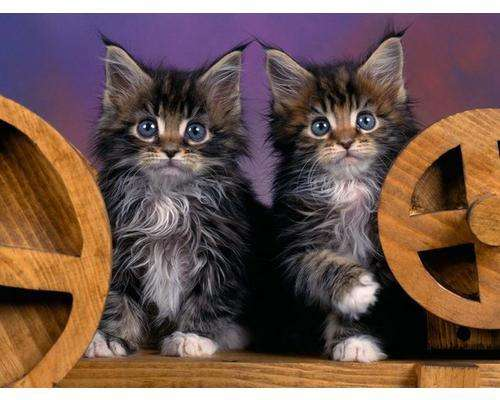cat: (90, 27, 256, 358), (263, 34, 420, 364)
